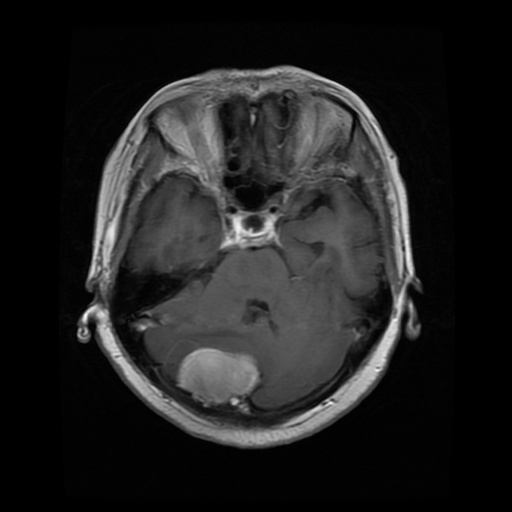meningioma: (177, 348, 259, 414)
